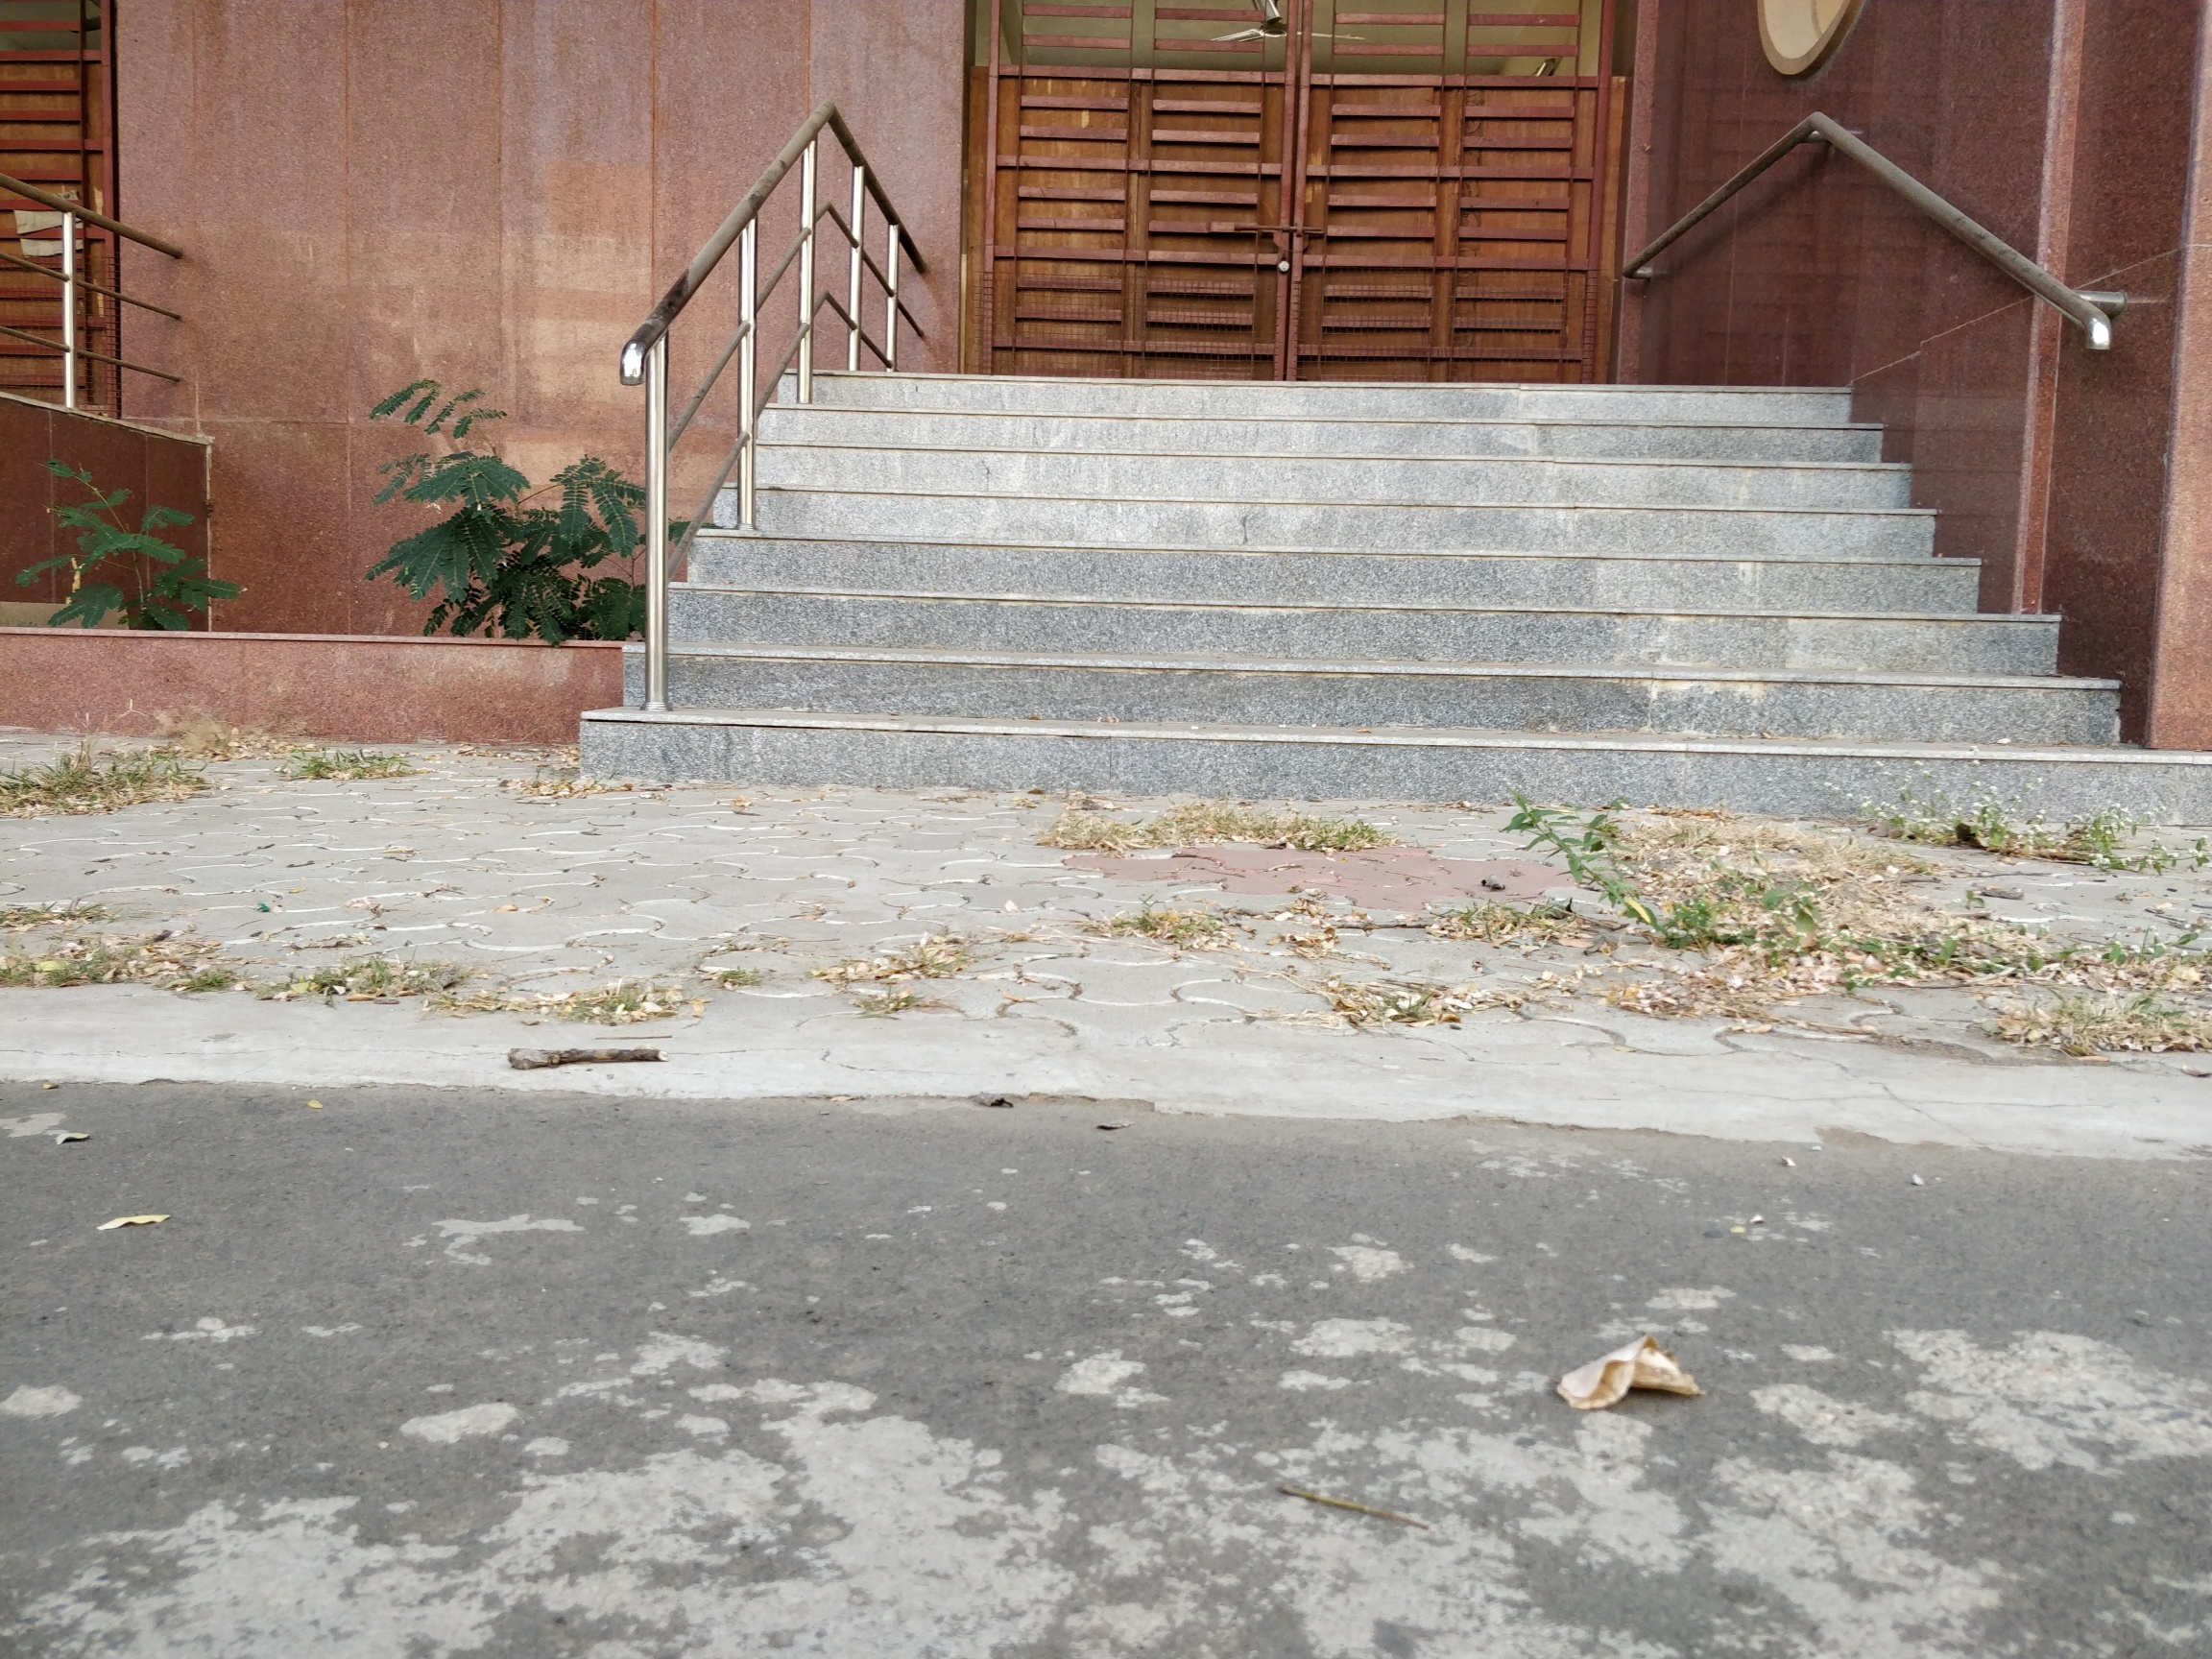stairs_up: (578, 352, 2179, 833)
